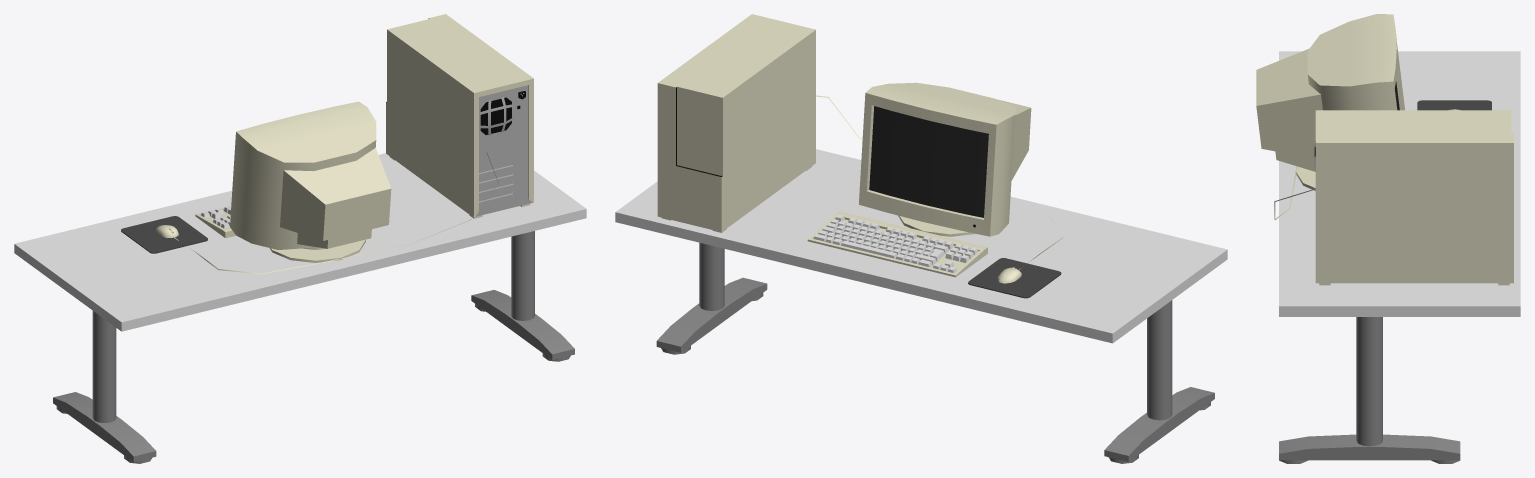
Rendered from computer_table.glb.
3 views of the same model, side by side, from view 1: azimuth 30°, elevation 25°; view 2: azimuth 150°, elevation 25°; view 3: azimuth 270°, elevation 25° (orthographic). The views are drawn at different scales.
Visible parts, largest first — view 1: table, computer, Monitor, Plane, monitor_stand; view 2: table, computer, Monitor, keyboard, Plane, monitor_stand; view 3: computer, table, Monitor, Plane, monitor_stand.
Part boxes in pixels (bbox=[...]): table: bbox=[14, 153, 586, 463]; computer: bbox=[386, 14, 533, 218]; Monitor: bbox=[230, 101, 391, 249]; Plane: bbox=[121, 216, 207, 253]; monitor_stand: bbox=[269, 239, 365, 262]; table: bbox=[615, 149, 1227, 463]; computer: bbox=[657, 14, 815, 232]; Monitor: bbox=[859, 82, 1031, 236]; keyboard: bbox=[807, 211, 987, 277]; Plane: bbox=[968, 258, 1061, 298]; monitor_stand: bbox=[898, 215, 975, 236]; computer: bbox=[1314, 110, 1513, 285]; table: bbox=[1279, 51, 1520, 463]; Monitor: bbox=[1256, 14, 1404, 171]; Plane: bbox=[1417, 100, 1491, 110]; monitor_stand: bbox=[1295, 167, 1315, 190].
Bounding box in the file's own units: 2 × 1.12 × 0.8757.
